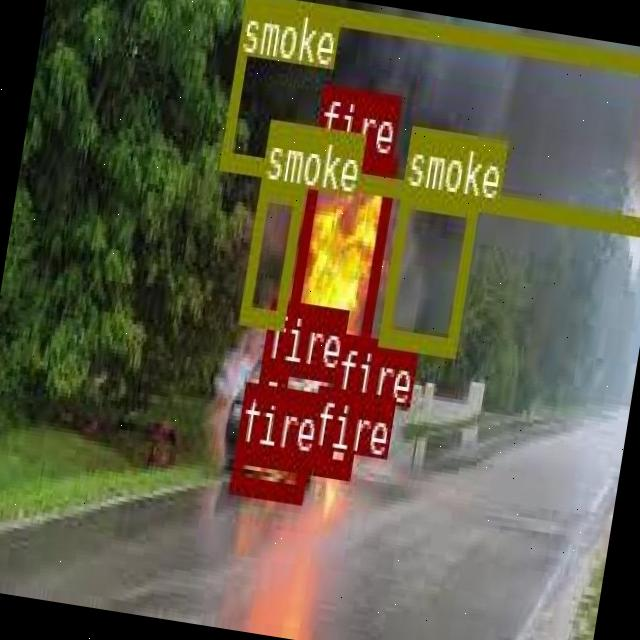fire: (278, 146, 396, 383), (230, 442, 306, 498), (318, 392, 362, 474), (254, 358, 289, 403), (304, 446, 326, 474)
smoke: (219, 0, 640, 233), (378, 188, 478, 354), (240, 180, 304, 325)
